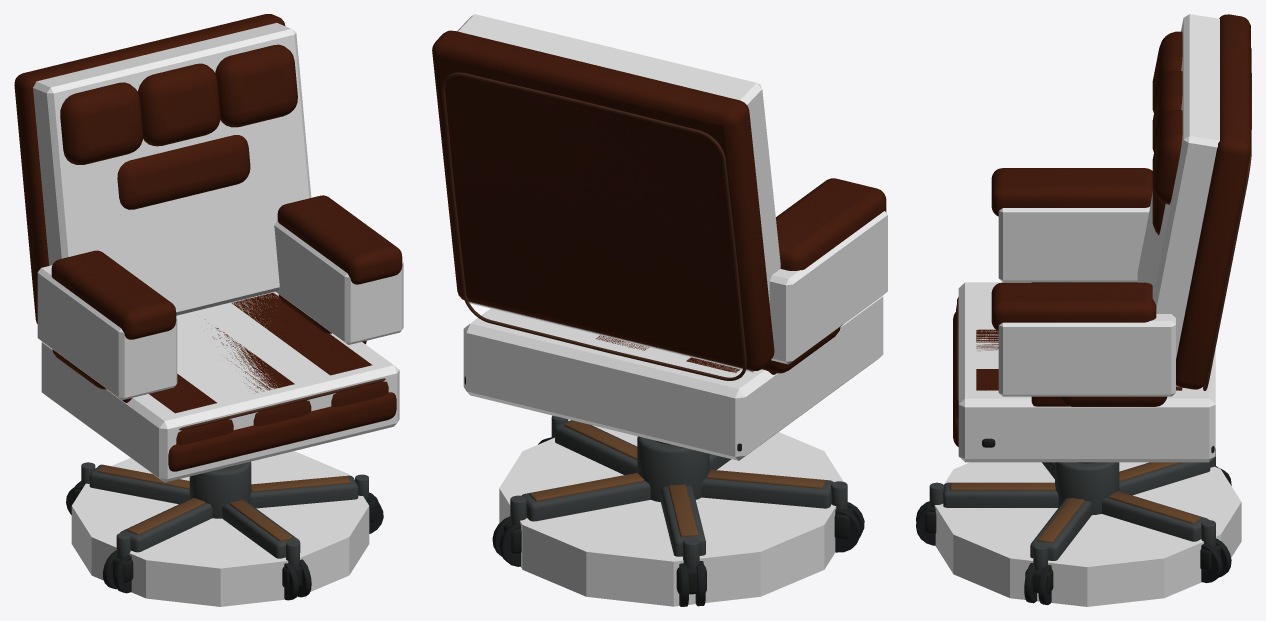
The model's file is premium.glb.
3 renders of one model, left to right at view 1: azimuth 30°, elevation 25°; view 2: azimuth 150°, elevation 25°; view 3: azimuth 270°, elevation 25°, orthographic. The views are drawn at different scales.
Visible parts, largest first — view 1: COL_Backrest, COL_Seat, BackrestUpholstery_LOD0, COL_Base, COL_Arm_Left, SeatCushion, COL_Arm_Right, BackrestShell, ExecutiveArmPad_Right, ExecutiveArmPad_Left, SeatCushionFoundation, BaseHub (+9 smaller); view 2: BackrestShell, COL_Seat, COL_Base, COL_Backrest, COL_Arm_Left, ExecutiveArmPad_Left, BackrestOuterPiping, BaseHub, BaseLeg_05, BaseLeg_03, BaseLeg_02, BaseLeg_04 (+6 smaller); view 3: COL_Base, COL_Seat, COL_Arm_Right, COL_Backrest, BackrestShell, COL_Arm_Left, ExecutiveArmPad_Right, ExecutiveArmPad_Left, BackrestUpholstery_LOD0, BaseHub, BaseLeg_01, BaseLeg_03 (+11 smaller).
Part boxes in pixels (bbox=[...]): COL_Backrest: bbox=[33, 23, 311, 315]; COL_Seat: bbox=[41, 291, 399, 482]; BackrestUpholstery_LOD0: bbox=[60, 44, 297, 209]; COL_Base: bbox=[71, 451, 369, 606]; COL_Arm_Left: bbox=[37, 265, 177, 400]; SeatCushion: bbox=[149, 292, 388, 444]; COL_Arm_Right: bbox=[274, 220, 403, 344]; BackrestShell: bbox=[14, 14, 285, 323]; ExecutiveArmPad_Right: bbox=[277, 195, 402, 284]; ExecutiveArmPad_Left: bbox=[51, 250, 176, 339]; SeatCushionFoundation: bbox=[168, 392, 396, 471]; BaseHub: bbox=[189, 461, 251, 518]; BackrestShell: bbox=[432, 30, 774, 370]; COL_Seat: bbox=[463, 296, 883, 460]; COL_Base: bbox=[499, 425, 843, 606]; COL_Backrest: bbox=[457, 14, 780, 372]; COL_Arm_Left: bbox=[769, 211, 887, 364]; ExecutiveArmPad_Left: bbox=[776, 178, 886, 270]; BackrestOuterPiping: bbox=[441, 72, 746, 380]; BaseHub: bbox=[637, 436, 709, 501]; BaseLeg_05: bbox=[701, 469, 833, 508]; BaseLeg_03: bbox=[521, 472, 650, 521]; BaseLeg_02: bbox=[555, 420, 637, 474]; BaseLeg_04: bbox=[660, 485, 705, 556]; COL_Base: bbox=[934, 462, 1241, 606]; COL_Seat: bbox=[958, 282, 1215, 462]; COL_Arm_Right: bbox=[998, 314, 1175, 396]; COL_Backrest: bbox=[1137, 14, 1219, 389]; BackrestShell: bbox=[1176, 14, 1250, 389]; COL_Arm_Left: bbox=[998, 206, 1149, 282]; ExecutiveArmPad_Right: bbox=[991, 282, 1156, 330]; ExecutiveArmPad_Left: bbox=[991, 168, 1152, 216]; BackrestUpholstery_LOD0: bbox=[1152, 31, 1182, 235]; BaseHub: bbox=[1055, 462, 1119, 515]; BaseLeg_01: bbox=[943, 482, 1058, 507]; BaseLeg_03: bbox=[1102, 491, 1208, 541].
Size of what is drawn, in the model's own units: 0.776 by 1.17 by 0.7637.
Materials: 6 (2 with a texture image).
